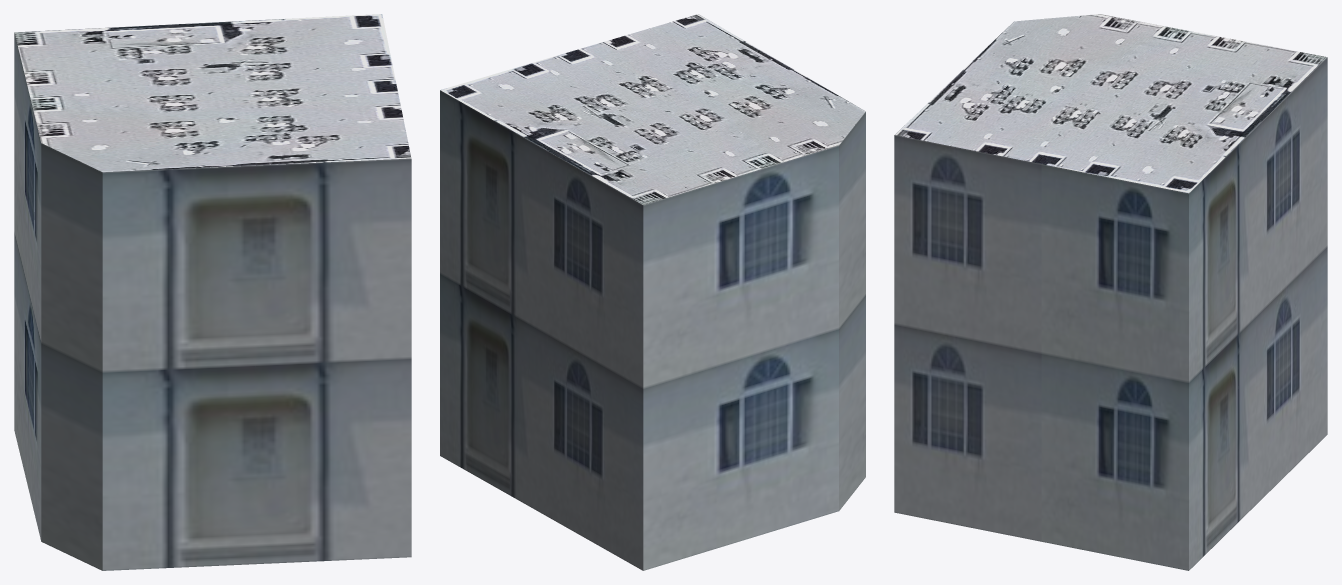
File: ResTex__4578.fbx
The picture shows the model from 3 angles, left to right: view 1: azimuth 30°, elevation 25°; view 2: azimuth 150°, elevation 25°; view 3: azimuth 270°, elevation 25°; orthographic projection. The views are drawn at different scales.
Parts seen in each view (by area): view 1: CityEngineMaterial_17_m, CityEngineMaterial_4_m; view 2: CityEngineMaterial_17_m, CityEngineMaterial_4_m; view 3: CityEngineMaterial_17_m, CityEngineMaterial_4_m.
Boxes of the visible parts, x1,y1,x2,y2 form: CityEngineMaterial_17_m: (14,32,411,570); CityEngineMaterial_4_m: (14,14,411,172); CityEngineMaterial_17_m: (440,90,865,570); CityEngineMaterial_4_m: (440,14,865,204); CityEngineMaterial_17_m: (894,57,1327,570); CityEngineMaterial_4_m: (895,14,1327,193).
Bounding box in the file's own units: 6.11 × 6 × 6.24.
2 materials, 2 textured.
